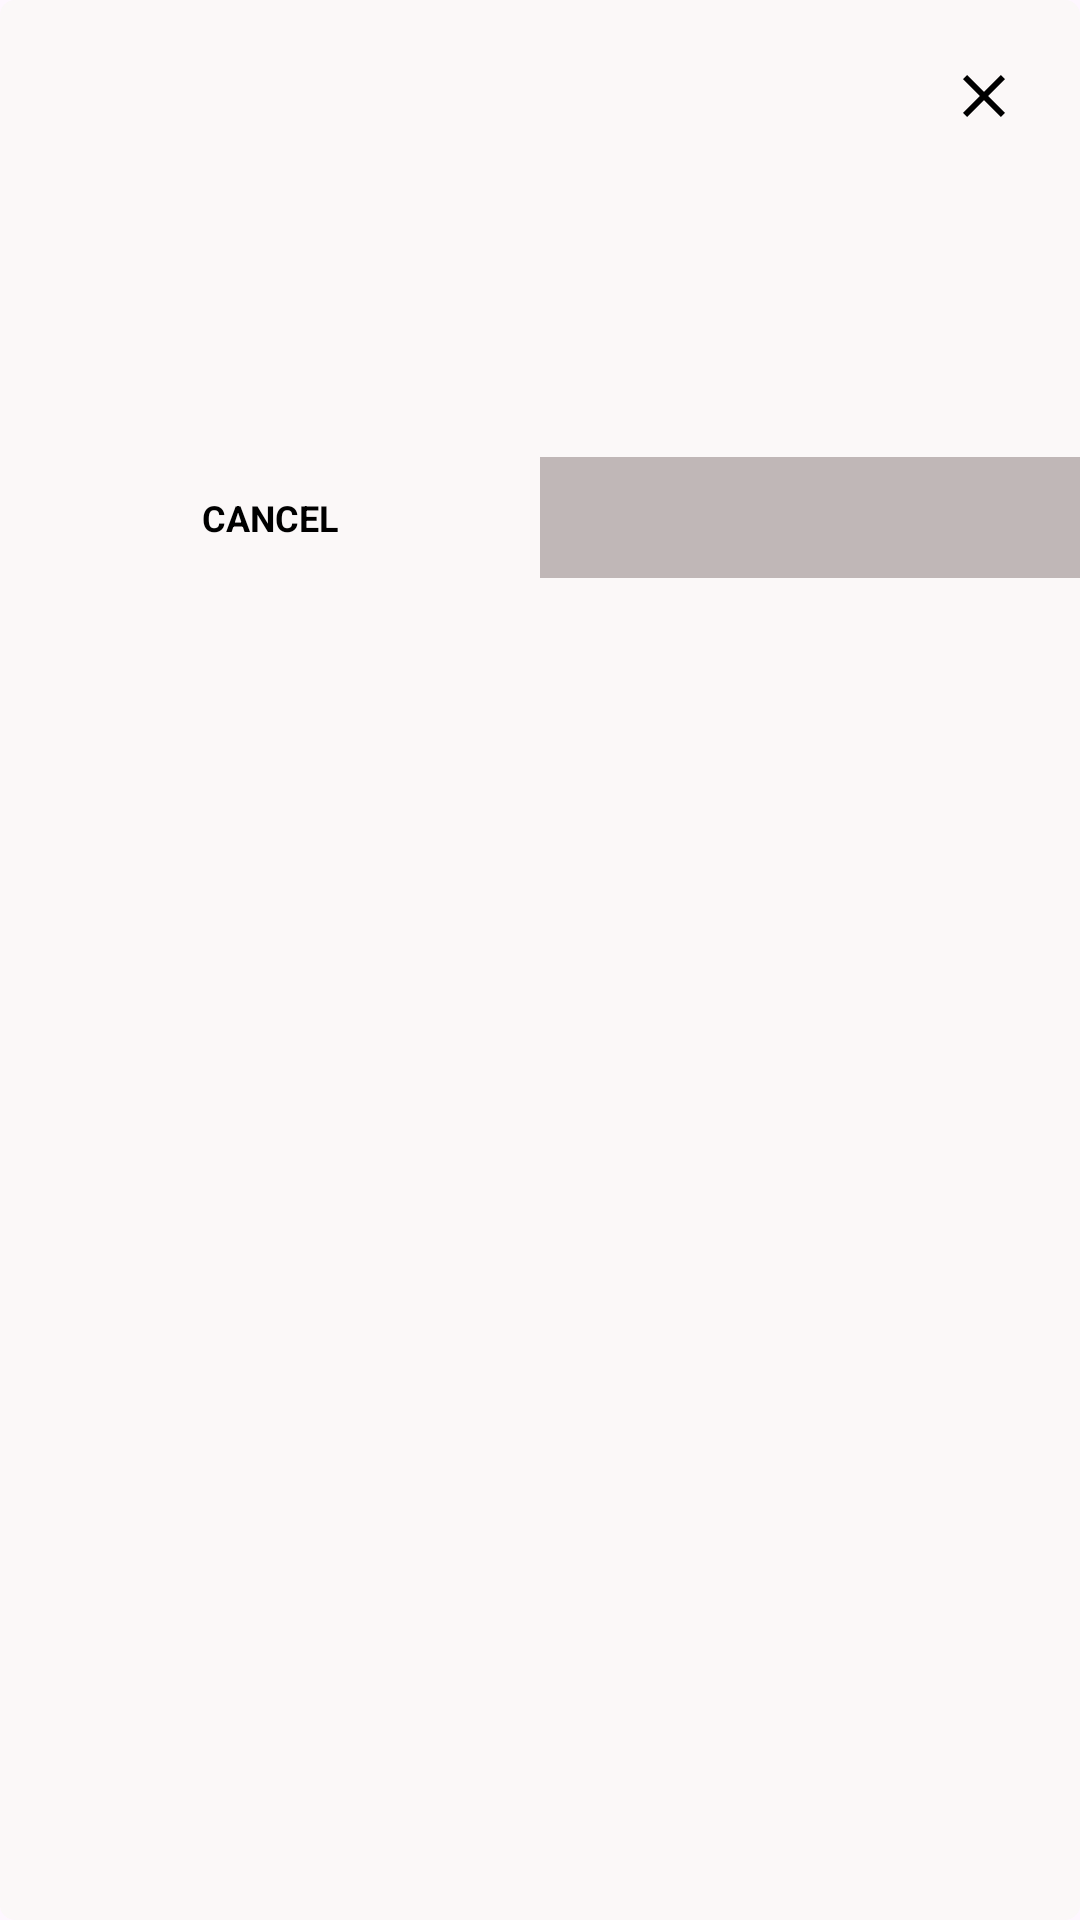

Icon click points for this 1080px x 1920px phone screenshot, format (x,y):
close: (984,96)
